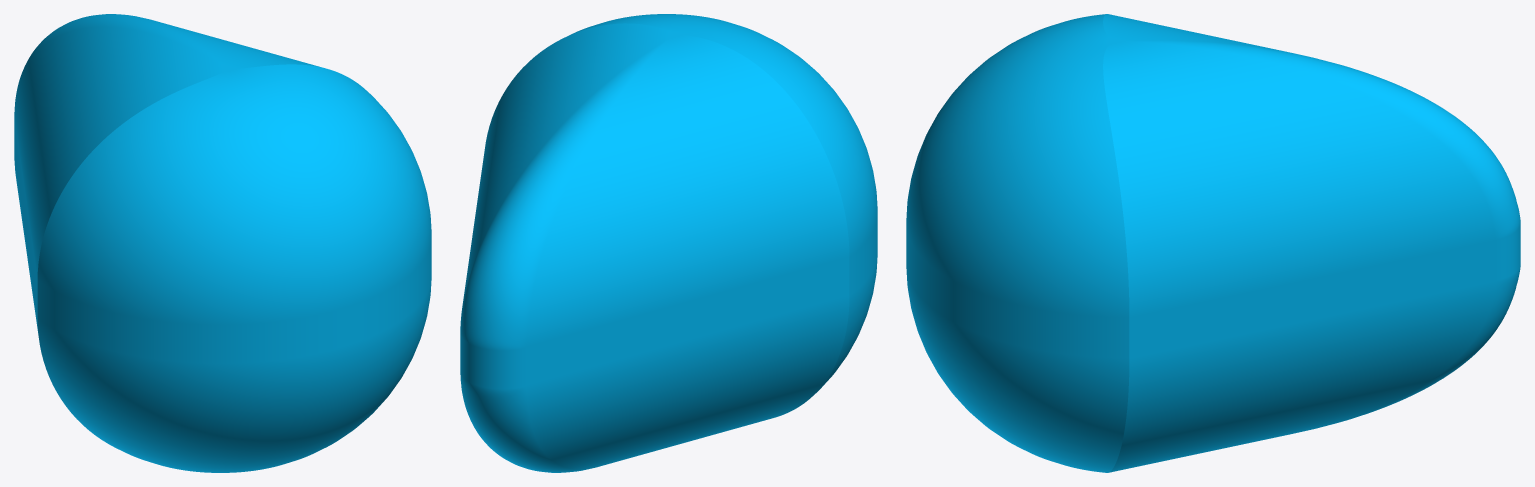
Rendered from damla.gltf.
The picture shows the model from 3 angles, left to right: view 1: azimuth 30°, elevation 25°; view 2: azimuth 150°, elevation 25°; view 3: azimuth 270°, elevation 25°; orthographic projection. The views are drawn at different scales.
Parts seen in each view (by area): view 1: Gövde; view 2: Gövde; view 3: Gövde.
Part boxes in pixels (x1=…): Gövde: x1=14, y1=14, x2=431, y2=472; Gövde: x1=460, y1=14, x2=877, y2=472; Gövde: x1=906, y1=14, x2=1520, y2=472.
Size of the model in its own units: 0.02 by 0.02 by 0.0275.
